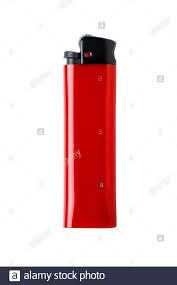lighter: (62, 33, 116, 230)
